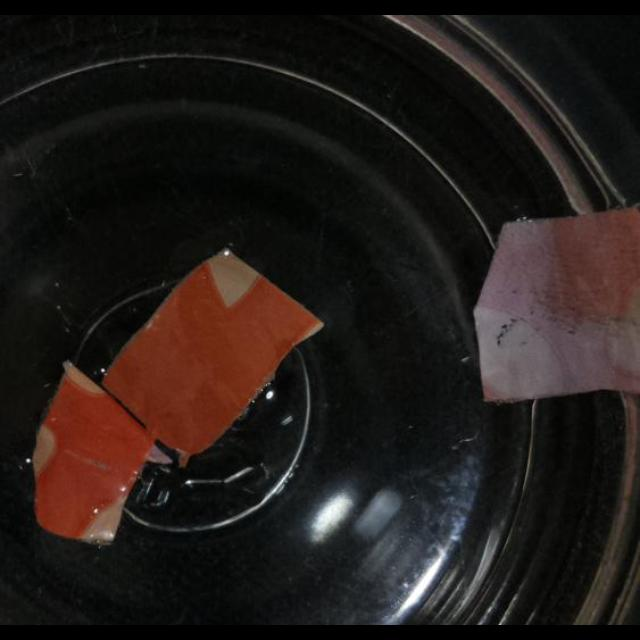Fragment: (102, 249, 326, 459), (475, 204, 640, 405), (30, 363, 158, 545)
